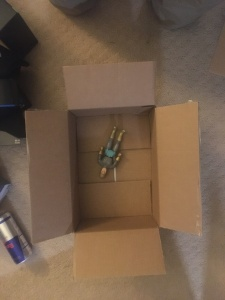innerbox: (67, 110, 161, 227)
outerbox: (27, 67, 201, 276)
product: (99, 127, 123, 179)
